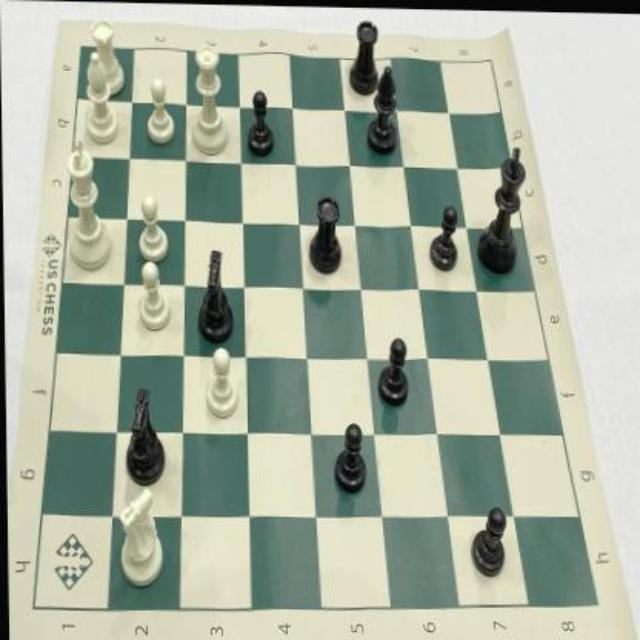black-bishop: (364, 58, 400, 158)
black-king: (473, 140, 531, 275)
black-knight: (120, 380, 168, 489), (191, 244, 238, 346)
black-pawn: (465, 502, 508, 582), (328, 416, 368, 500), (426, 200, 464, 276), (375, 329, 411, 409), (244, 85, 277, 161)
black-rook: (304, 192, 344, 278), (346, 11, 382, 97)
white-bishop: (77, 40, 123, 149)
white-king: (60, 135, 118, 275)
white-knight: (111, 483, 169, 590)
white-pawn: (200, 343, 240, 423), (132, 257, 173, 333), (133, 189, 171, 267), (143, 73, 179, 148)
white-queen: (190, 35, 234, 161)
white-rook: (87, 13, 127, 97)
